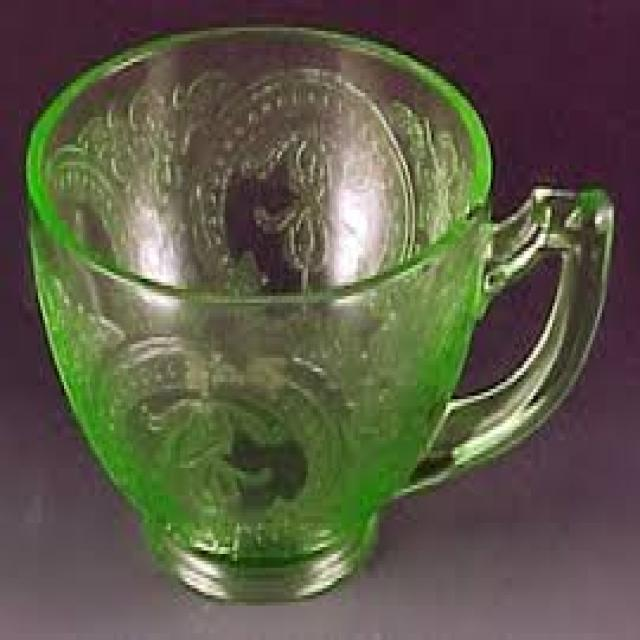glass: (24, 17, 612, 602)
